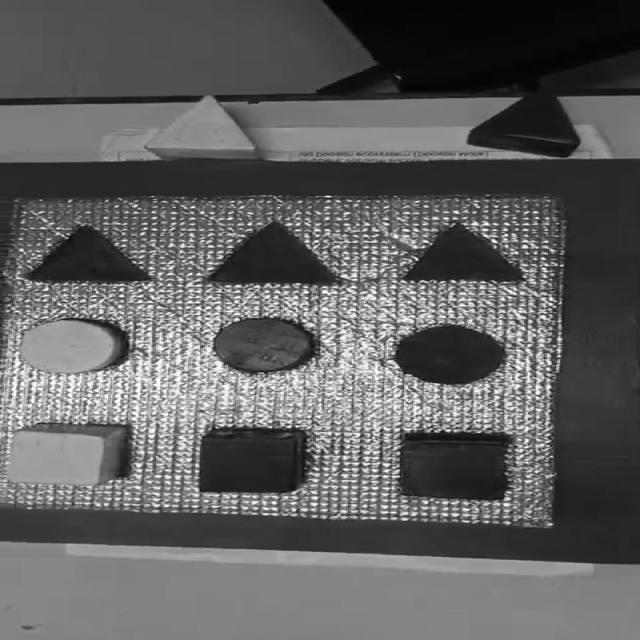bcube: (396, 433, 508, 500)
mtcircle: (391, 324, 505, 385)
mttriangle: (202, 220, 341, 286), (19, 223, 152, 284), (398, 222, 525, 285)
rcircle: (212, 314, 320, 376)
rcube: (197, 428, 305, 494)
rtriangle: (466, 88, 581, 156)
wb: (0, 193, 561, 524)
ycircle: (18, 319, 124, 374)
ycube: (5, 424, 124, 487)
ytriangle: (145, 96, 261, 160)
